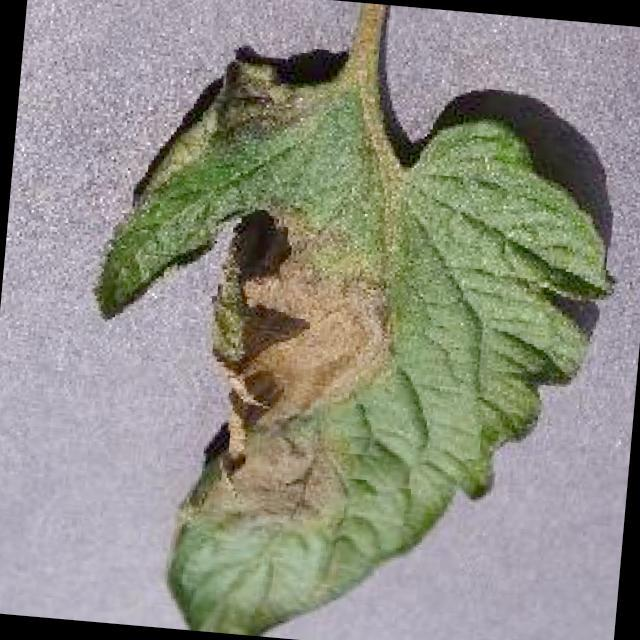Tomato late blight leaf: (63, 45, 636, 640)
